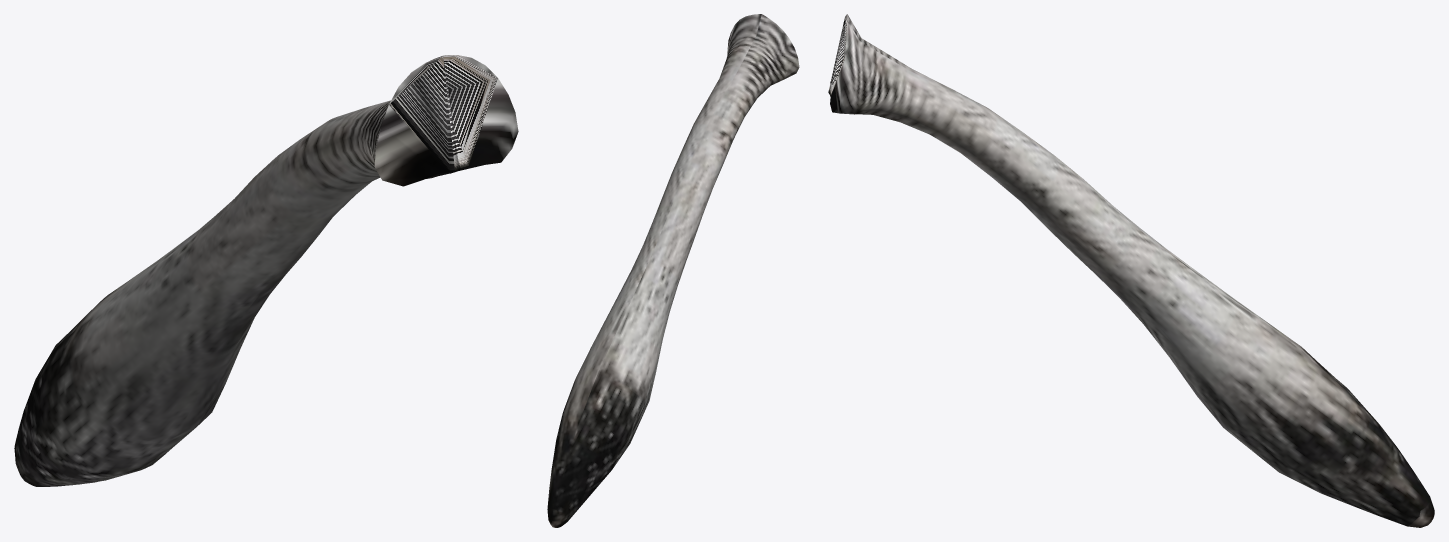
The model's file is z_tail.obj.
3 views of the same model, side by side, from view 1: azimuth 30°, elevation 25°; view 2: azimuth 150°, elevation 25°; view 3: azimuth 270°, elevation 25° (orthographic). The views are drawn at different scales.
Visible parts, largest first — view 1: Object_50.005; view 2: Object_50.005; view 3: Object_50.005.
Part boxes in pixels (x1,y1,x2,y2): Object_50.005: (14,55,518,486); Object_50.005: (547,14,799,527); Object_50.005: (828,14,1434,527).
Bounding box in the file's own units: 2.66 × 12.86 × 13.84.
1 material, 1 textured.
